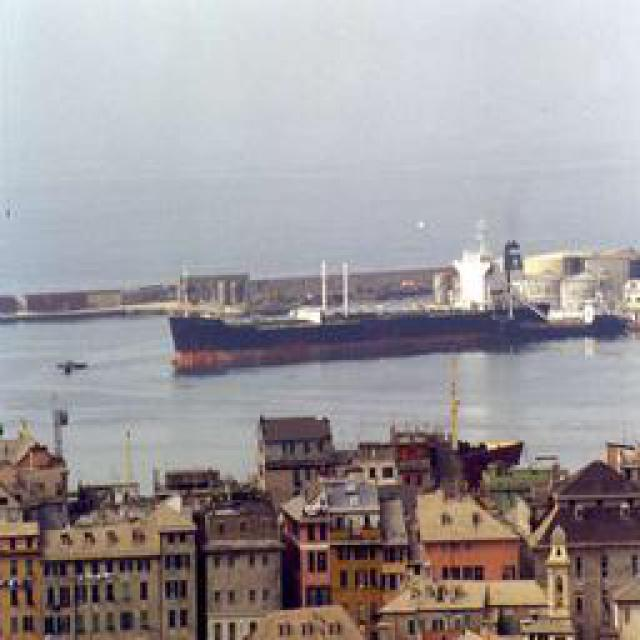Ship: (166, 270, 601, 368)
